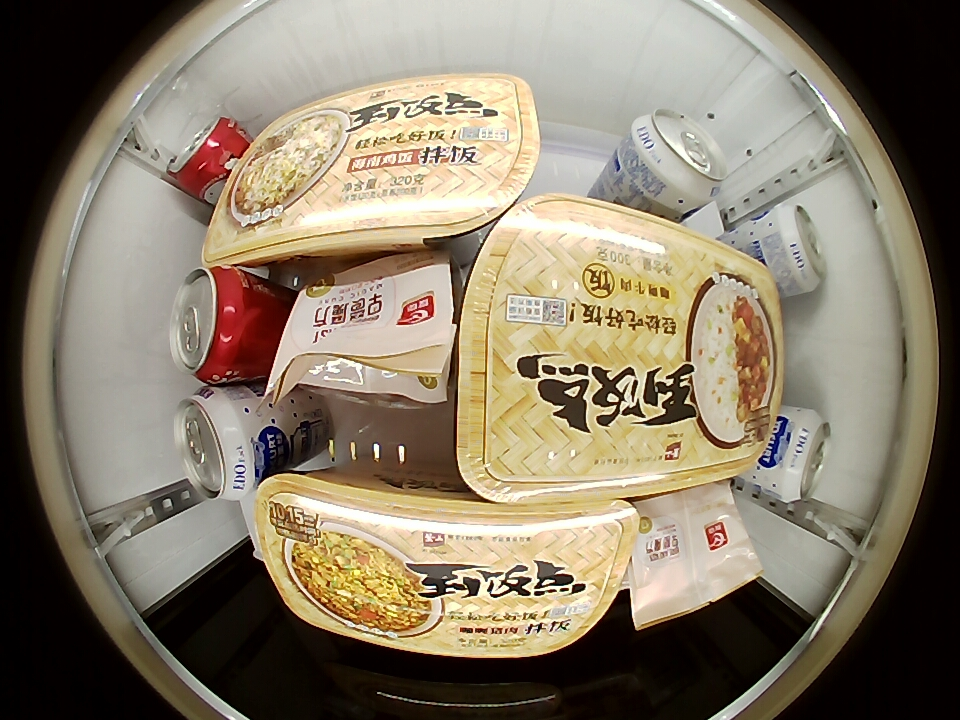daofandian1: (205, 74, 541, 267)
daofandian2: (451, 196, 785, 503)
daofandian3: (251, 476, 638, 657)
kele: (169, 266, 252, 384), (169, 114, 244, 195)
rusuanjunqishui: (174, 387, 262, 501), (630, 108, 729, 207), (761, 407, 832, 503), (762, 202, 826, 295)
zaocanmofang: (268, 254, 458, 407), (628, 488, 763, 632)
